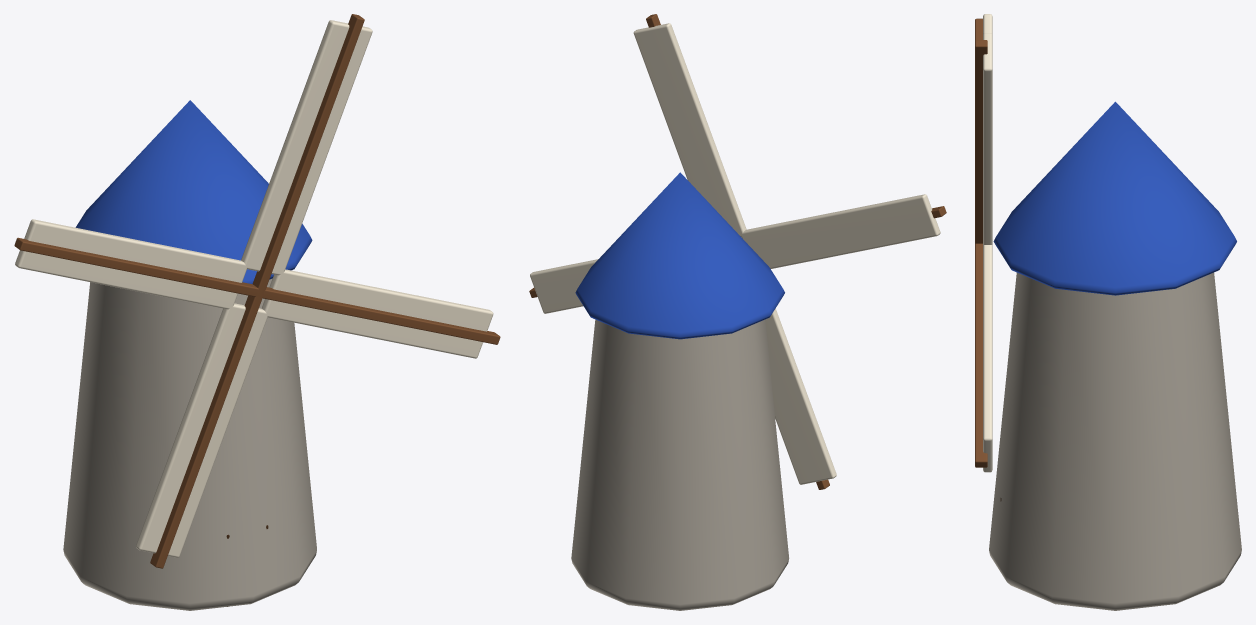
The model's file is windmill.glb.
The picture shows the model from 3 angles, left to right: view 1: azimuth 30°, elevation 25°; view 2: azimuth 150°, elevation 25°; view 3: azimuth 270°, elevation 25°; orthographic projection. The views are drawn at different scales.
Parts seen in each view (by area): view 1: base, roof, sail.003, sail.001, sail, sail.002, spar, spar.002, spar.003, spar.001; view 2: base, roof, sail.003, sail, sail.002, sail.001; view 3: base, roof, sail.001, sail, spar.001, spar.
Part boxes in pixels (x1=…): base: x1=63, y1=278, x2=316, y2=610; roof: x1=75, y1=100, x2=312, y2=284; sail.003: x1=15, y1=219, x2=246, y2=309; sail.001: x1=261, y1=269, x2=493, y2=358; sail: x1=241, y1=20, x2=372, y2=275; sail.002: x1=136, y1=303, x2=267, y2=557; spar: x1=253, y1=14, x2=364, y2=299; spar.002: x1=150, y1=283, x2=265, y2=568; spar.003: x1=14, y1=237, x2=266, y2=298; spar.001: x1=252, y1=284, x2=500, y2=344; base: x1=571, y1=319, x2=789, y2=610; roof: x1=575, y1=172, x2=784, y2=339; sail.003: x1=741, y1=194, x2=940, y2=268; sail: x1=633, y1=23, x2=746, y2=236; sail.002: x1=765, y1=308, x2=836, y2=484; sail.001: x1=530, y1=259, x2=598, y2=313; base: x1=989, y1=272, x2=1241, y2=610; roof: x1=993, y1=101, x2=1236, y2=295; sail.001: x1=983, y1=245, x2=992, y2=472; sail: x1=983, y1=33, x2=992, y2=244; spar.001: x1=975, y1=243, x2=987, y2=467; spar: x1=975, y1=40, x2=987, y2=243.
Bounding box in the file's own units: 0.8667 × 0.9833 × 0.4182.
